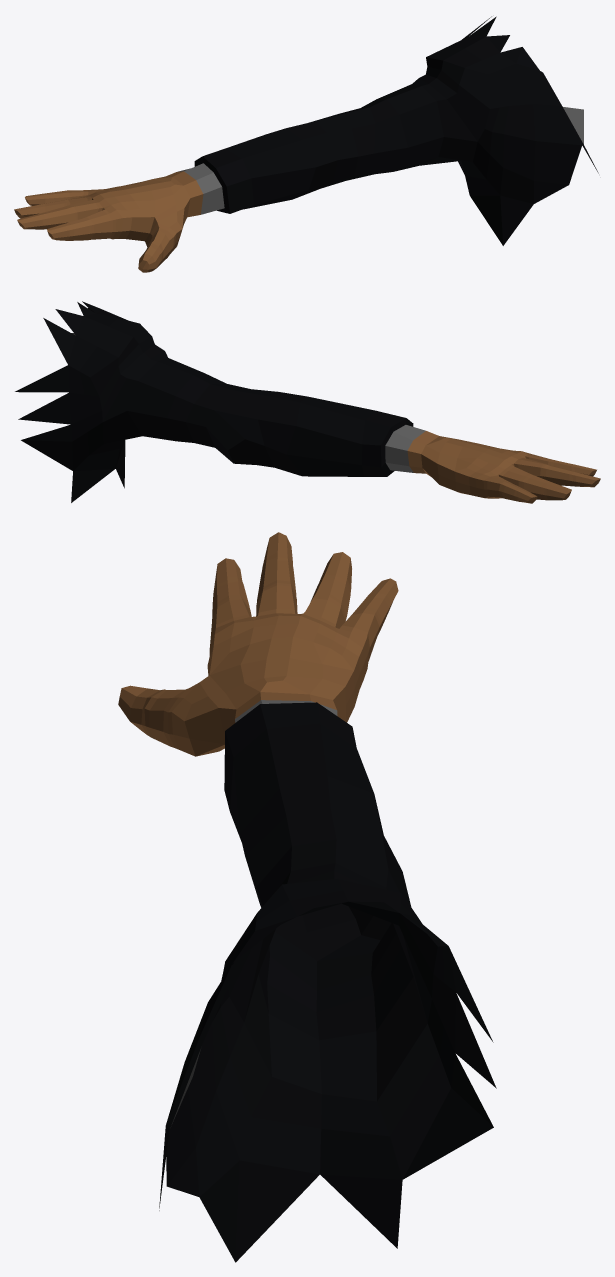
File: BMan_Arm_R.obj
3 renders of one model, top to bottom at view 1: azimuth 30°, elevation 25°; view 2: azimuth 150°, elevation 25°; view 3: azimuth 270°, elevation 25°, orthographic. The views are drawn at different scales.
Size of the model in its own units: 0.8377 by 0.2824 by 0.248.
